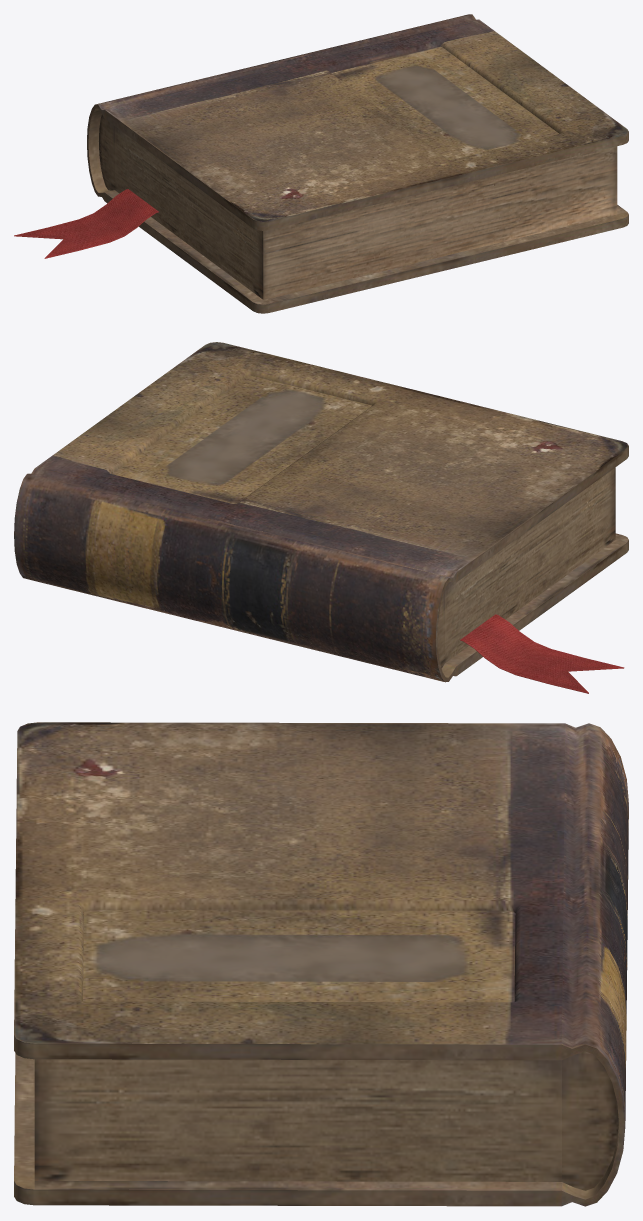
Rendered from closedBook.fbx.
3 views of the same model, one above another, from view 1: azimuth 30°, elevation 25°; view 2: azimuth 150°, elevation 25°; view 3: azimuth 270°, elevation 25° (orthographic). The views are drawn at different scales.
Parts seen in each view (by area): view 1: Book_model_default1; view 2: Book_model_default1; view 3: Book_model_default1.
Part boxes in pixels (<box>): Book_model_default1: <box>14,14,628,313</box>; Book_model_default1: <box>14,342,628,693</box>; Book_model_default1: <box>14,722,628,1206</box>.
Bounding box in the file's own units: 106 × 19.58 × 67.32.
